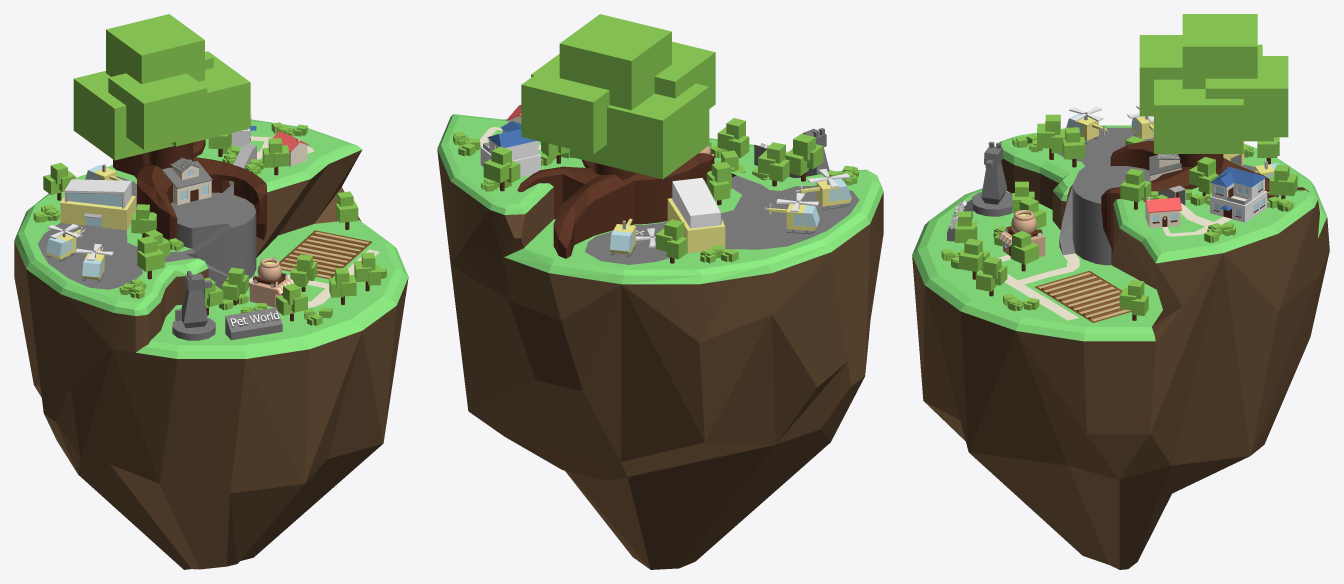
Rendered from Pet world 1 220327.dae.
The picture shows the model from 3 angles, left to right: view 1: azimuth 30°, elevation 25°; view 2: azimuth 150°, elevation 25°; view 3: azimuth 270°, elevation 25°; orthographic projection. The views are drawn at different scales.
Parts seen in each view (by area): view 1: group_0 (×7), group_6, group_3, group_5, group_24 (×3), group_4, group_79, group_59, group_77, group_29, group_63, group_61 (+11 smaller); view 2: group_0 (×5), group_5, group_3, group_2, group_24 (×2), group_6, group_14 (×2), group_29, group_17, group_25, group_27, group_63 (+1 smaller); view 3: group_0 (×8), group_4, group_3, group_2, group_6, group_14 (×3), group_58, group_29, group_59, group_61, group_74, group_46 (+8 smaller).
Part boxes in pixels (box(x1,y1,x2,y2)): group_0 (×7): box(14, 119, 408, 569); group_6: box(108, 73, 207, 149); group_3: box(106, 14, 204, 84); group_5: box(73, 71, 174, 160); group_24 (×3): box(60, 179, 135, 230); group_4: box(171, 51, 250, 146); group_79: box(225, 307, 282, 340); group_59: box(294, 230, 372, 260); group_77: box(175, 289, 207, 328); group_29: box(137, 236, 164, 271); group_63: box(276, 283, 307, 315); group_61: box(354, 252, 380, 285); group_0 (×5): box(437, 114, 883, 569); group_5: box(570, 83, 709, 179); group_3: box(559, 14, 671, 110); group_2: box(521, 57, 609, 154); group_24 (×2): box(667, 178, 725, 253); group_6: box(654, 41, 715, 108); group_14 (×2): box(480, 121, 540, 177); group_29: box(785, 133, 823, 175); group_17: box(483, 146, 520, 183); group_25: box(655, 219, 687, 259); group_27: box(758, 142, 789, 181); group_63: box(717, 118, 749, 157); group_0 (×8): box(912, 125, 1329, 569); group_4: box(1154, 79, 1243, 153); group_3: box(1182, 14, 1257, 88); group_2: box(1205, 56, 1288, 137); group_6: box(1139, 35, 1182, 116); group_14 (×3): box(1210, 166, 1267, 222); group_58: box(1035, 271, 1118, 304); group_29: box(1037, 114, 1064, 153); group_59: box(1064, 289, 1131, 322); group_61: box(976, 256, 1007, 291); group_74: box(1119, 280, 1148, 315); group_46: box(1120, 168, 1151, 202).
Bounding box in the file's own units: 3102 × 3169 × 4414.
